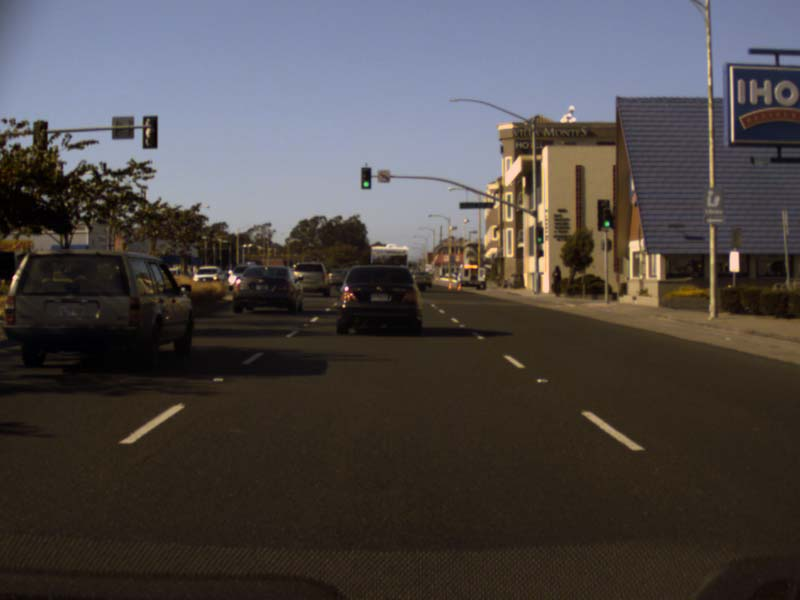Green: (361, 169, 370, 187), (602, 208, 610, 227), (537, 229, 542, 242)
